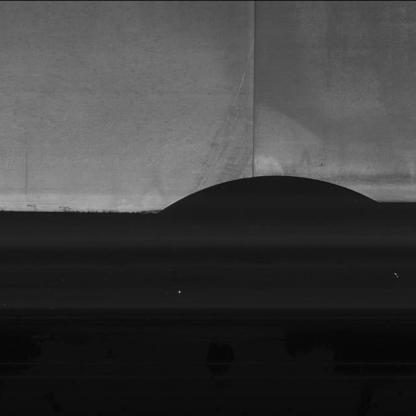welding_line: (240, 3, 272, 184)
